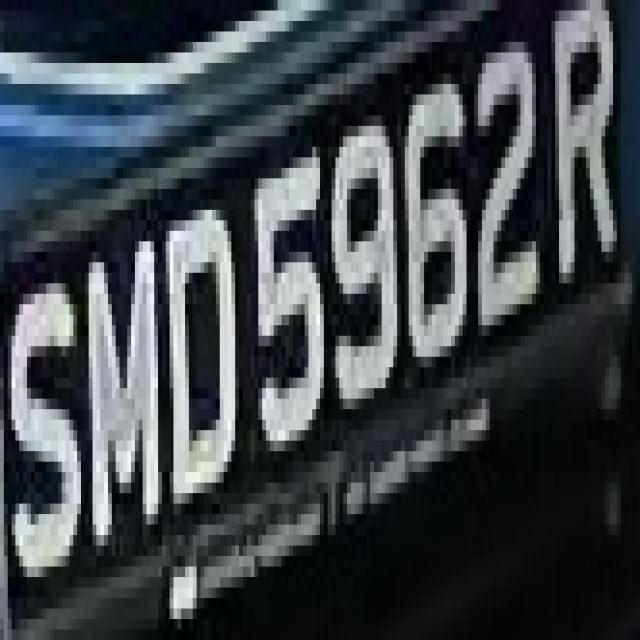2: (466, 0, 544, 336)
5: (247, 126, 339, 483)
6: (401, 74, 478, 388)
9: (320, 116, 405, 440)
D: (158, 157, 239, 514)
M: (74, 220, 174, 566)
R: (547, 0, 621, 294)
S: (4, 242, 81, 608)
